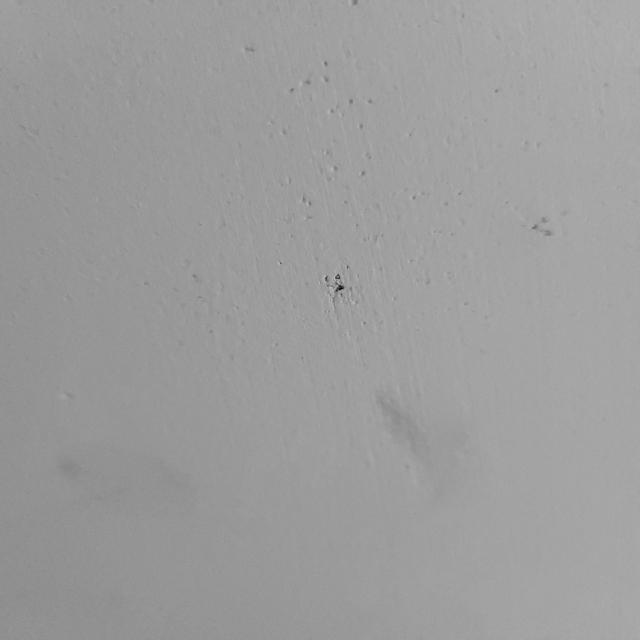rough and patchy surface: (0, 0, 441, 348), (447, 1, 640, 256)
stain marks: (342, 380, 483, 511), (48, 426, 216, 521)
